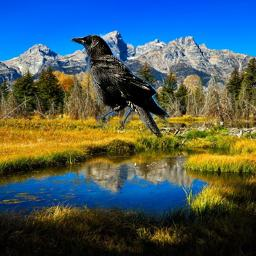Crow: (66, 33, 171, 140)
